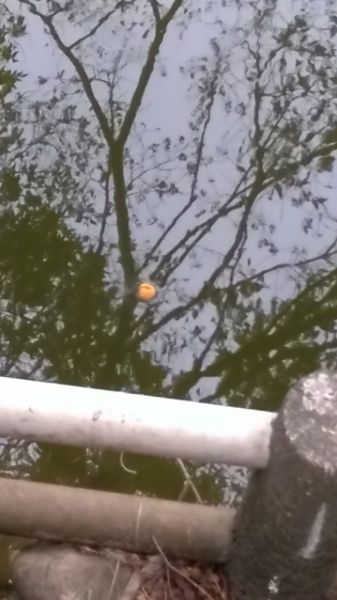eggs: (130, 277, 165, 307)
